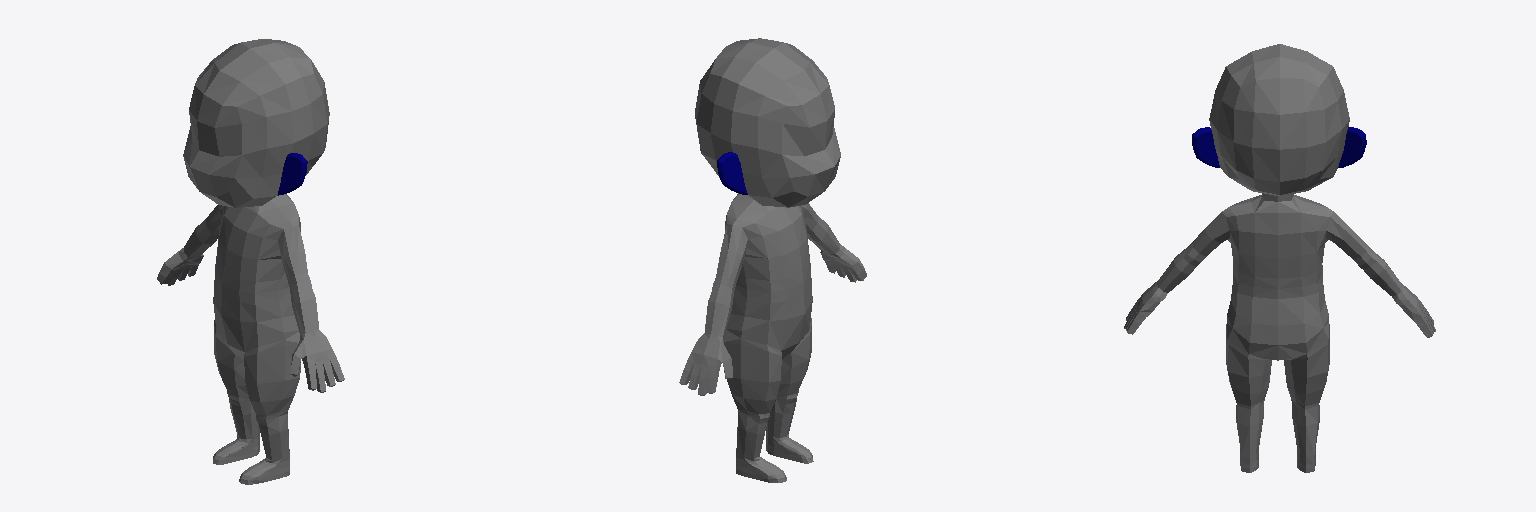
File: Nendroid.obj
3 views of the same model, side by side, from view 1: azimuth 30°, elevation 25°; view 2: azimuth 150°, elevation 25°; view 3: azimuth 270°, elevation 25° (orthographic).
Visible parts, largest first — view 1: Box002, head, leftear; view 2: Box002, head, leftear; view 3: Box002, head, leftear.
Part boxes in pixels (x1,y1,x2,y2): Box002: (157,194,344,484); head: (183,39,329,207); leftear: (278,153,307,195); Box002: (679,193,866,482); head: (695,38,840,207); leftear: (717,152,747,194); Box002: (1124,193,1435,472); head: (1209,44,1349,195); leftear: (1192,127,1366,167).
Bounding box in the file's own units: 91.03 × 274 × 184.